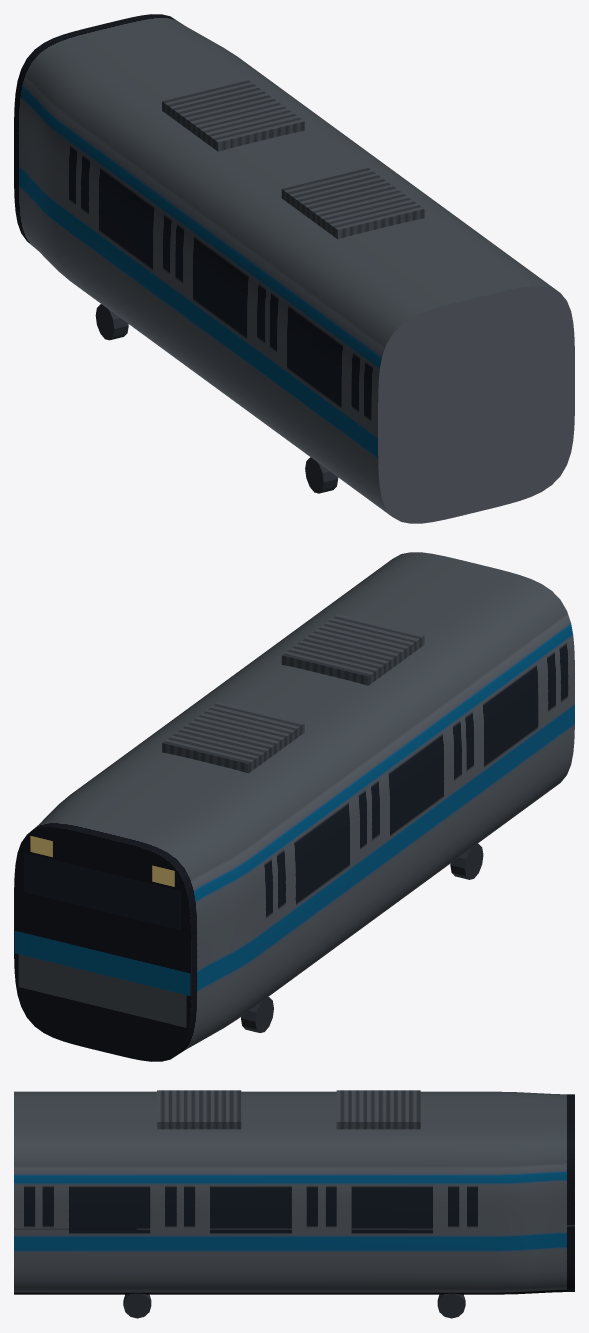
Rendered from Commuter_Cyan.fbx.
3 renders of one model, top to bottom at view 1: azimuth 30°, elevation 25°; view 2: azimuth 150°, elevation 25°; view 3: azimuth 270°, elevation 25°, orthographic. The views are drawn at different scales.
Parts seen in each view (by area): view 1: Commuter_Cyan, Commuter_Cyan_Cap-1, Commuter_Cyan_Root_AirCon0, Commuter_Cyan_Root_AirCon1, Commuter_Cyan_Root_Wheel.003, Commuter_Cyan_Root_Wheel.001; view 2: Commuter_Cyan, Commuter_Cyan_Cap1, Commuter_Cyan_Root_AirCon0, Commuter_Cyan_Root_AirCon1, Commuter_Cyan_Root_Wheel.001, Commuter_Cyan_Root_Wheel.003; view 3: Commuter_Cyan, Commuter_Cyan_Root_AirCon0, Commuter_Cyan_Root_AirCon1, Commuter_Cyan_Root_Wheel.002, Commuter_Cyan_Root_Wheel.
Part boxes in pixels (<box>): Commuter_Cyan: <box>14,14,559,516</box>; Commuter_Cyan_Cap-1: <box>378,286,574,523</box>; Commuter_Cyan_Root_AirCon0: <box>281,168,424,239</box>; Commuter_Cyan_Root_AirCon1: <box>162,80,304,151</box>; Commuter_Cyan_Root_Wheel.003: <box>95,304,128,340</box>; Commuter_Cyan_Root_Wheel.001: <box>305,457,338,493</box>; Commuter_Cyan: <box>28,552,574,1053</box>; Commuter_Cyan_Cap1: <box>14,827,191,1061</box>; Commuter_Cyan_Root_AirCon0: <box>281,614,424,685</box>; Commuter_Cyan_Root_AirCon1: <box>162,702,304,773</box>; Commuter_Cyan_Root_Wheel.001: <box>450,843,483,879</box>; Commuter_Cyan_Root_Wheel.003: <box>241,997,273,1032</box>; Commuter_Cyan: <box>14,1091,574,1294</box>; Commuter_Cyan_Root_AirCon0: <box>157,1090,241,1129</box>; Commuter_Cyan_Root_AirCon1: <box>336,1090,420,1129</box>; Commuter_Cyan_Root_Wheel.002: <box>123,1293,151,1318</box>; Commuter_Cyan_Root_Wheel: <box>437,1293,465,1318</box>.
Bounding box in the file's own units: 106 × 125 × 347.
2 materials, 1 textured.
